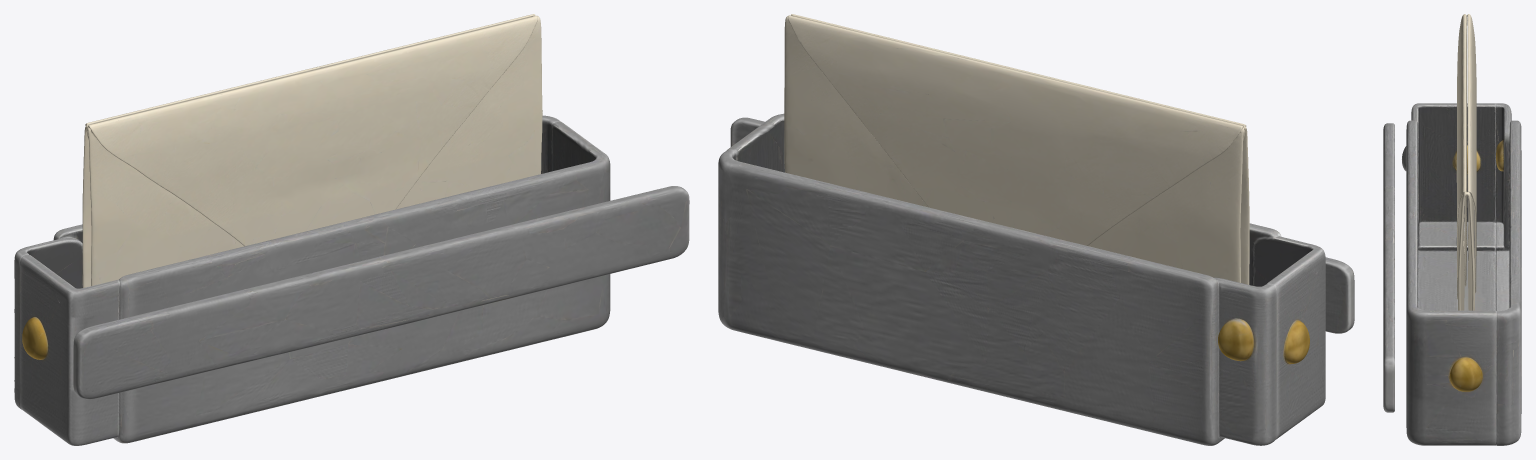
Rendered from remote-tray.glb.
3 views of the same model, side by side, from view 1: azimuth 30°, elevation 25°; view 2: azimuth 150°, elevation 25°; view 3: azimuth 270°, elevation 25° (orthographic). The views are drawn at different scales.
Bounding box in the file's own units: 0.0865 × 0.04 × 0.0209.
Materials: 1 (1 with a texture image).
